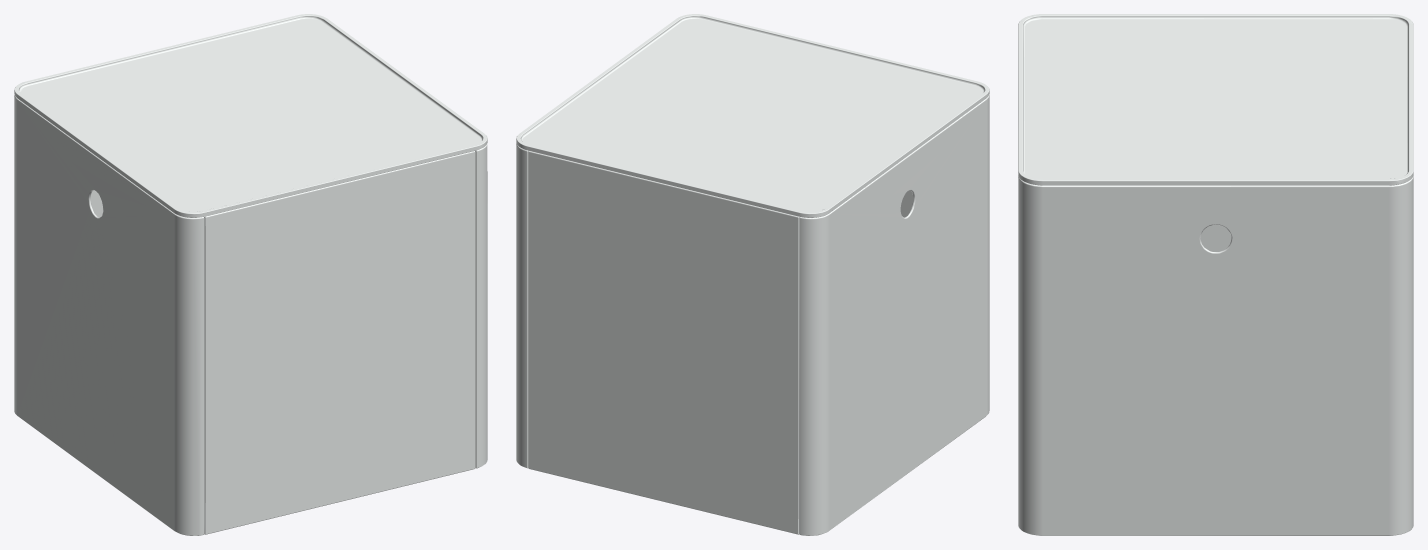
The model's file is kuggis_pojemnik_z_pokrywa_00526875.glb.
3 renders of one model, left to right at view 1: azimuth 30°, elevation 25°; view 2: azimuth 150°, elevation 25°; view 3: azimuth 270°, elevation 25°, orthographic. The views are drawn at different scales.
Parts seen in each view (by area): view 1: kuggis_pojemnik_z_pokrywa_00526875; view 2: kuggis_pojemnik_z_pokrywa_00526875; view 3: kuggis_pojemnik_z_pokrywa_00526875.
Boxes of the visible parts, x1,y1,x2,y2 form: kuggis_pojemnik_z_pokrywa_00526875: [14, 14, 487, 535]; kuggis_pojemnik_z_pokrywa_00526875: [516, 14, 989, 535]; kuggis_pojemnik_z_pokrywa_00526875: [1018, 14, 1413, 535].
Bounding box in the file's own units: 0.32 × 0.3201 × 0.32.
Materials: 1 (1 with a texture image).
